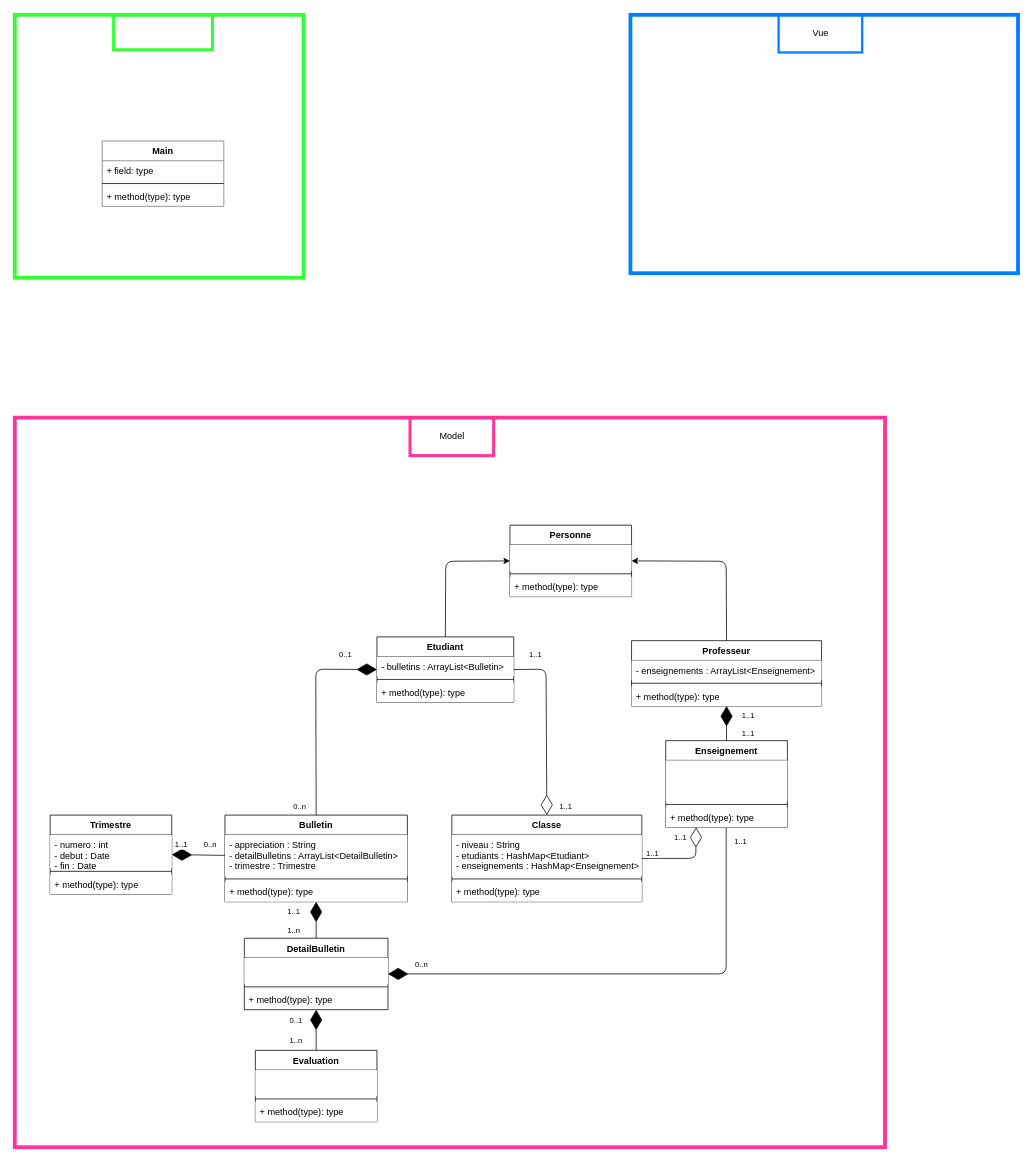
Image size: 1033x1162. Some labels were removed from this diagram. Here are the shapes that lost their labels. From the top down, the centre of each, then its label:
the point at 163,32: Controlleur
the point at 570,557: - Nom : String - Prenom : String
the point at 726,780: - discipline : String - classe : Classe - professeur : Professeur
the point at 316,970: - appreciation : String - enseignement : Enseignement
the point at 316,1083: - note : int - appreciation : String
